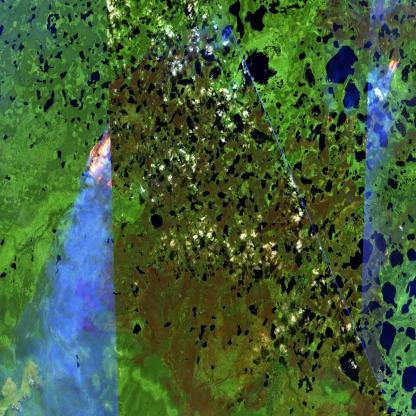fire: (82, 122, 115, 203), (385, 48, 406, 84)
